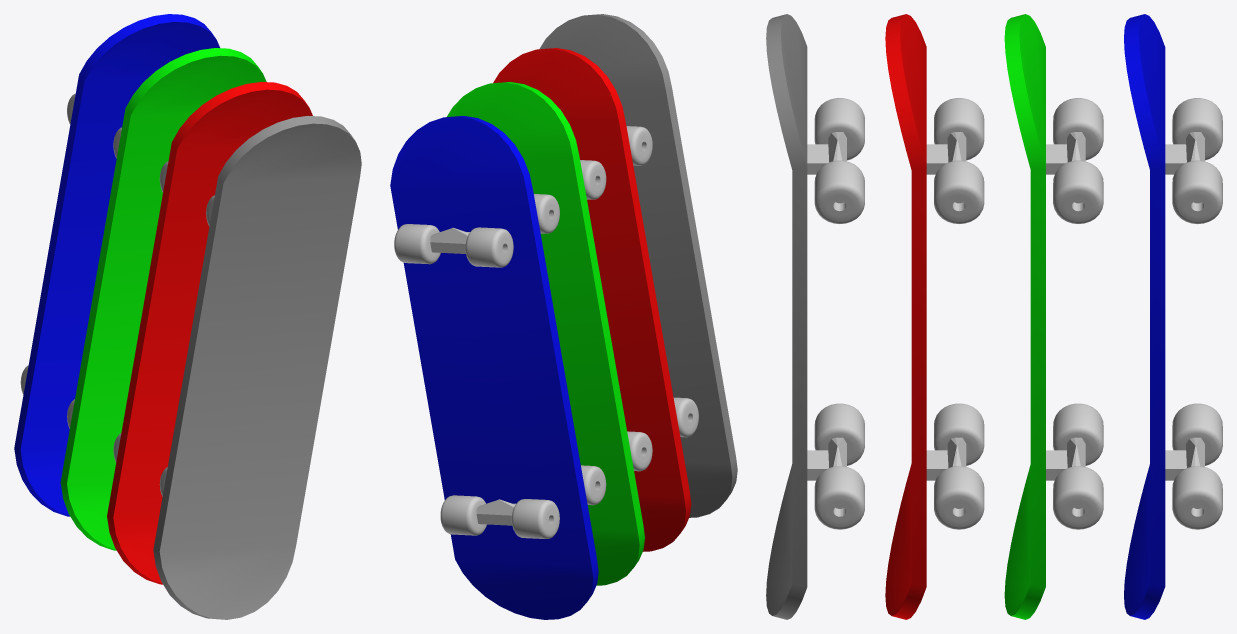
Rendered from Skateboard.fbx.
3 views of the same model, side by side, from view 1: azimuth 30°, elevation 25°; view 2: azimuth 150°, elevation 25°; view 3: azimuth 270°, elevation 25° (orthographic). The views are drawn at different scales.
Parts seen in each view (by area): view 1: patineta_tabla, patineta_tabla01, patineta_tabla03, patineta_tabla02; view 2: patineta_tabla03, patineta_tabla01, patineta_tabla, patineta_tabla02, Patineta_Rueda16, Patineta_Rueda14, Patineta_Rueda13, Patineta_Rueda15, patineta_metal06, patineta_metal07, Patineta_Rueda08, Patineta_Rueda02 (+4 smaller); view 3: patineta_tabla03, patineta_tabla, patineta_tabla01, patineta_tabla02, Patineta_Rueda09, Patineta_Rueda04, Patineta_Rueda13, Patineta_Rueda15, Patineta_Rueda01, Patineta_Rueda11, Patineta_Rueda05, Patineta_Rueda07 (+16 smaller).
Boxes of the visible parts, box(x1,y1,x2,y2) form: patineta_tabla: box(153, 116, 361, 619); patineta_tabla01: box(107, 82, 312, 584); patineta_tabla03: box(14, 14, 219, 516); patineta_tabla02: box(60, 48, 266, 550); patineta_tabla03: box(390, 116, 598, 619); patineta_tabla01: box(493, 48, 691, 551); patineta_tabla: box(539, 14, 737, 517); patineta_tabla02: box(447, 82, 644, 585); Patineta_Rueda16: box(465, 227, 513, 267); Patineta_Rueda14: box(511, 499, 559, 538); Patineta_Rueda13: box(440, 495, 486, 535); Patineta_Rueda15: box(394, 224, 440, 264); patineta_metal06: box(476, 499, 515, 525); patineta_metal07: box(430, 227, 469, 253); Patineta_Rueda08: box(580, 160, 606, 199); Patineta_Rueda02: box(626, 126, 652, 165); patineta_tabla03: box(1124, 14, 1165, 619); patineta_tabla: box(766, 14, 807, 619); patineta_tabla01: box(885, 14, 926, 619); patineta_tabla02: box(1004, 14, 1045, 619); Patineta_Rueda09: box(1053, 466, 1103, 529); Patineta_Rueda04: box(814, 466, 864, 529); Patineta_Rueda13: box(1172, 466, 1222, 529); Patineta_Rueda15: box(1172, 160, 1222, 224); Patineta_Rueda01: box(814, 160, 864, 223); Patineta_Rueda11: box(1053, 160, 1103, 223); Patineta_Rueda05: box(934, 466, 984, 529); Patineta_Rueda07: box(934, 160, 984, 223).
Size of the model in its own units: 45.39 by 104 by 69.33.
